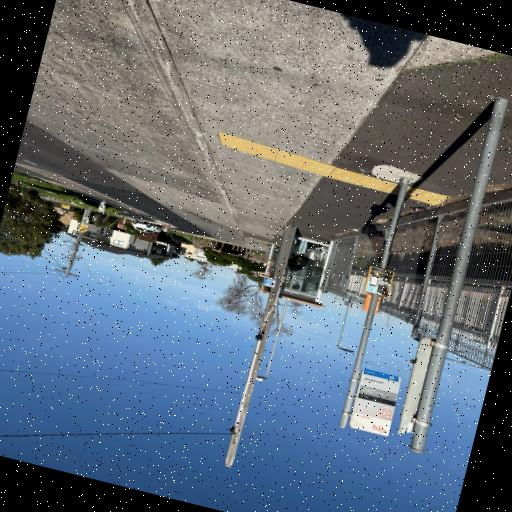clear_path: (130, 0, 408, 248)
platform_edge: (150, 57, 247, 240)
signage: (335, 177, 416, 438)
tgsi: (220, 131, 455, 207)
